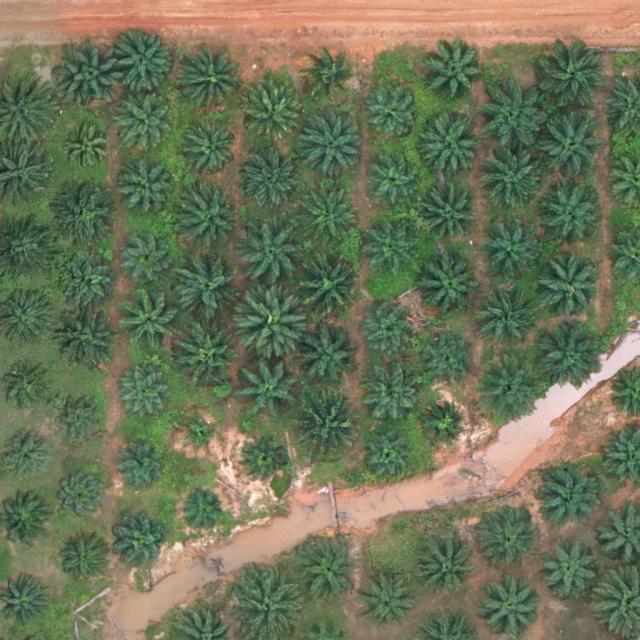Healthy: (47, 180, 118, 251), (175, 183, 246, 254), (535, 177, 606, 248), (59, 43, 129, 114), (174, 315, 244, 386), (241, 221, 311, 292), (297, 249, 367, 320), (296, 387, 366, 458), (414, 110, 484, 181), (413, 246, 483, 317), (477, 81, 547, 152), (479, 146, 549, 217), (471, 284, 541, 355), (537, 41, 607, 112), (538, 111, 608, 182), (530, 247, 601, 317), (175, 252, 245, 322), (239, 355, 309, 425), (242, 287, 312, 357), (297, 109, 367, 179), (475, 359, 545, 429), (533, 324, 603, 394), (119, 289, 182, 352), (244, 149, 307, 212), (420, 43, 483, 106), (537, 537, 600, 600), (477, 506, 540, 569), (480, 574, 543, 637), (57, 303, 120, 365), (112, 27, 174, 90), (114, 93, 176, 156), (177, 50, 239, 113), (244, 78, 306, 141), (301, 180, 363, 243), (297, 326, 359, 389), (299, 541, 361, 604), (358, 368, 420, 431), (416, 181, 478, 244), (535, 465, 597, 528), (415, 536, 477, 599), (478, 217, 540, 279), (53, 468, 108, 523), (53, 393, 108, 448), (60, 122, 115, 177), (118, 156, 173, 211), (123, 231, 178, 286), (118, 369, 173, 424), (116, 518, 171, 573), (305, 46, 360, 101), (418, 396, 473, 451), (363, 151, 418, 206), (362, 303, 417, 358), (363, 431, 418, 486), (362, 576, 417, 631), (57, 535, 111, 590), (61, 258, 115, 313), (115, 435, 169, 490), (186, 126, 240, 181), (362, 83, 416, 138), (365, 225, 419, 280), (422, 331, 476, 386)
Small: (240, 435, 287, 483), (181, 487, 228, 534), (182, 418, 221, 457)
